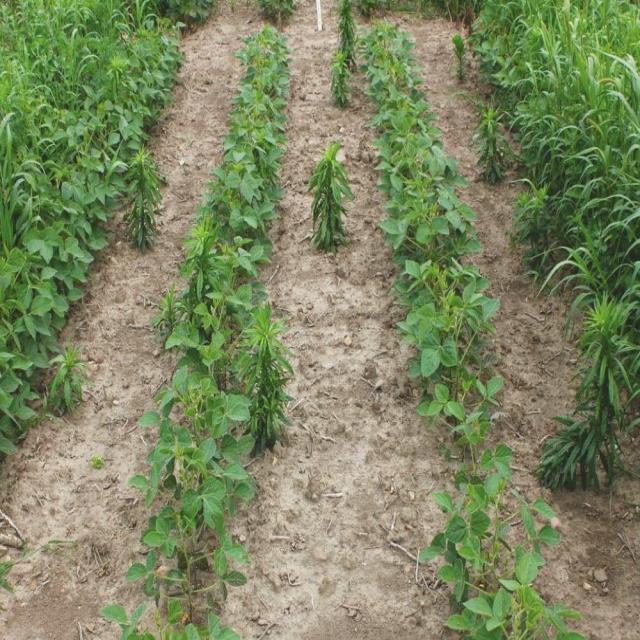row: (1, 1, 260, 640), (394, 0, 640, 640), (216, 0, 456, 640)
